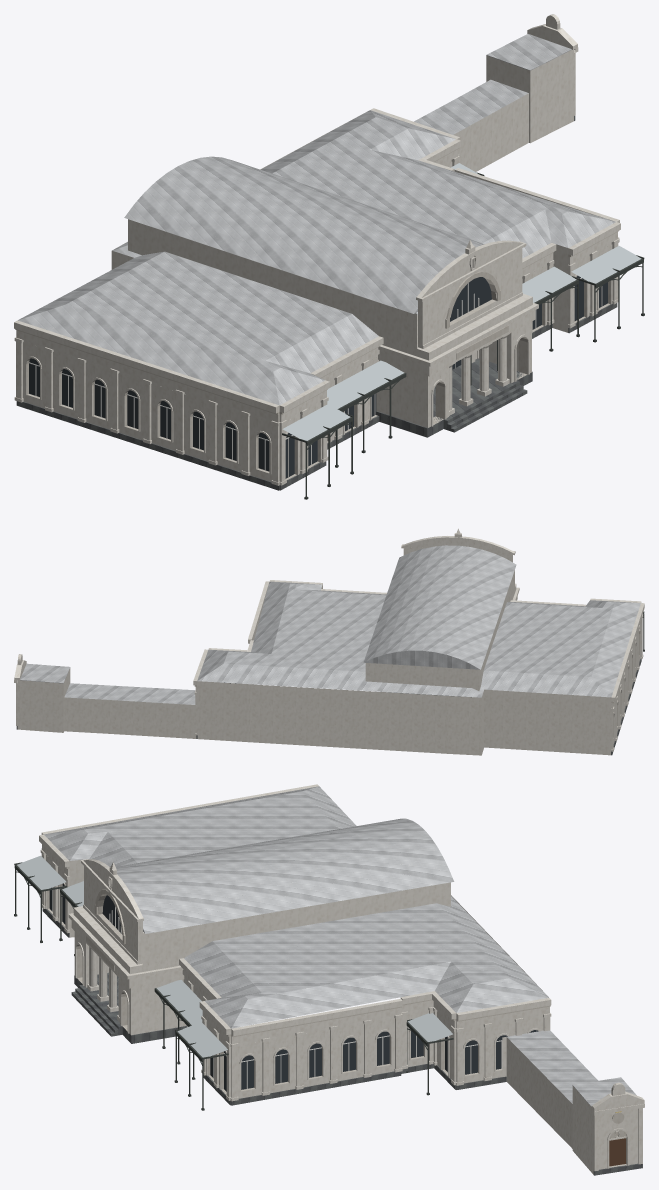
3 renders of one model, top to bottom at view 1: azimuth 30°, elevation 25°; view 2: azimuth 150°, elevation 25°; view 3: azimuth 270°, elevation 25°, orthographic. The views are drawn at different scales.
Parts seen in each view (by area): view 1: bldg_231220414_landmark; view 2: bldg_231220414_landmark; view 3: bldg_231220414_landmark.
Boxes of the visible parts, left/top/right/bottom form: bldg_231220414_landmark: left=14, top=14, right=644, bottom=499; bldg_231220414_landmark: left=14, top=528, right=644, bottom=755; bldg_231220414_landmark: left=14, top=784, right=644, bottom=1175.
Bounding box in the file's own units: 72.59 × 16.1 × 61.2.
Materials: 10 (4 with a texture image).
